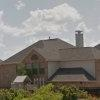Chimney: (68, 26, 95, 58)
